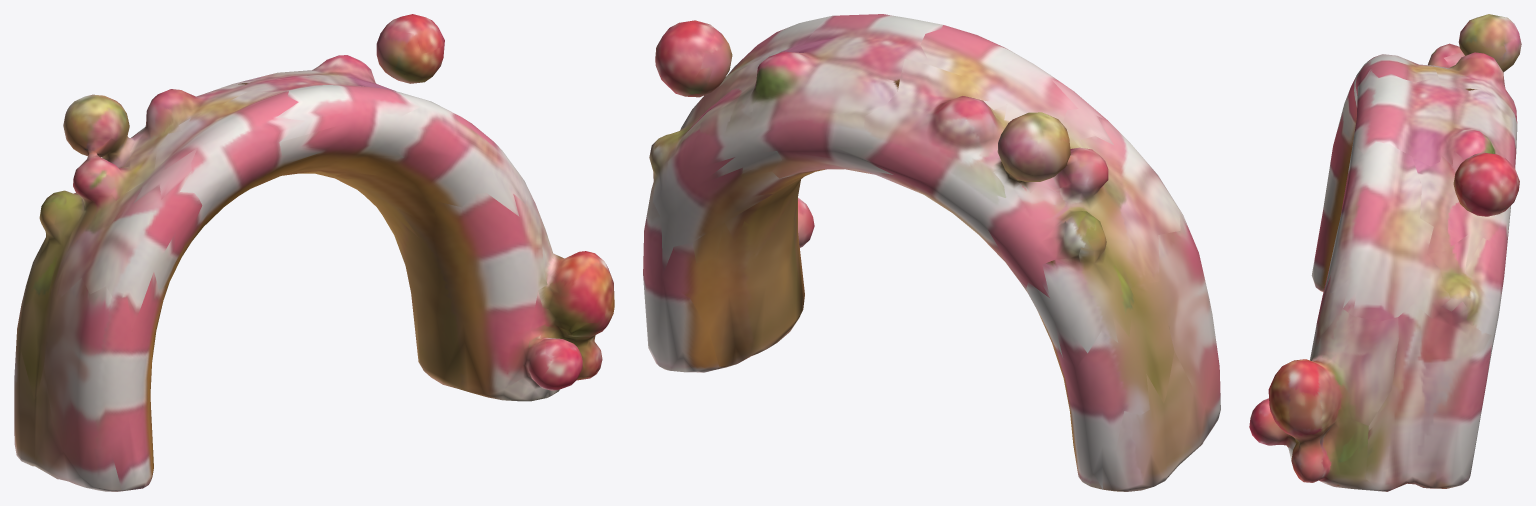
Rendered from CF_Arch.fbx.
3 renders of one model, left to right at view 1: azimuth 30°, elevation 25°; view 2: azimuth 150°, elevation 25°; view 3: azimuth 270°, elevation 25°, orthographic. The views are drawn at different scales.
Visible parts, largest first — view 1: CF_Arch; view 2: CF_Arch; view 3: CF_Arch.
Boxes of the visible parts, x1,y1,x2,y2 form: CF_Arch: [14, 14, 614, 491]; CF_Arch: [643, 14, 1220, 491]; CF_Arch: [1249, 14, 1521, 491].
Bounding box in the file's own units: 18.01 × 11.2 × 8.83.
